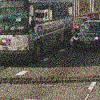buses: (0, 1, 76, 63)
